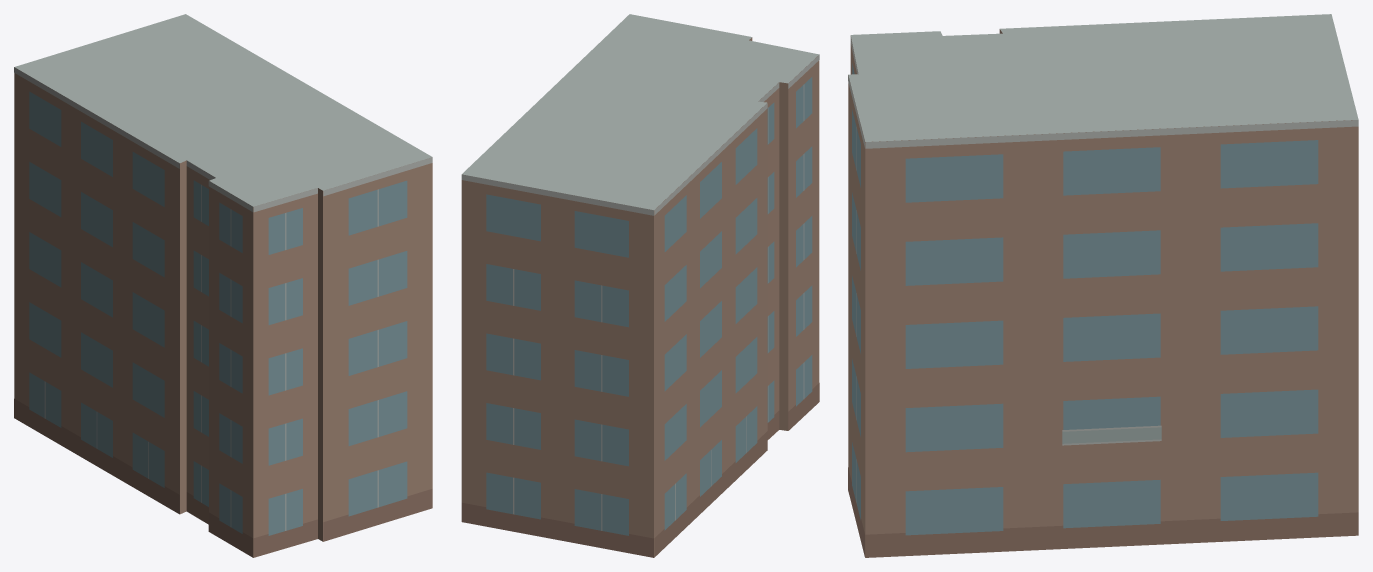
File: survey-upis-32567355.glb
The picture shows the model from 3 angles, left to right: view 1: azimuth 30°, elevation 25°; view 2: azimuth 150°, elevation 25°; view 3: azimuth 270°, elevation 25°; orthographic projection. The views are drawn at different scales.
Parts seen in each view (by area): view 1: survey-upis-32567355.tmp; view 2: survey-upis-32567355.tmp; view 3: survey-upis-32567355.tmp.
Part boxes in pixels (box(x1,y1,x2,y2)): survey-upis-32567355.tmp: box(14, 14, 432, 557); survey-upis-32567355.tmp: box(461, 14, 819, 557); survey-upis-32567355.tmp: box(848, 14, 1358, 557).
Bounding box in the file's own units: 9.95 × 15.05 × 16.75.
